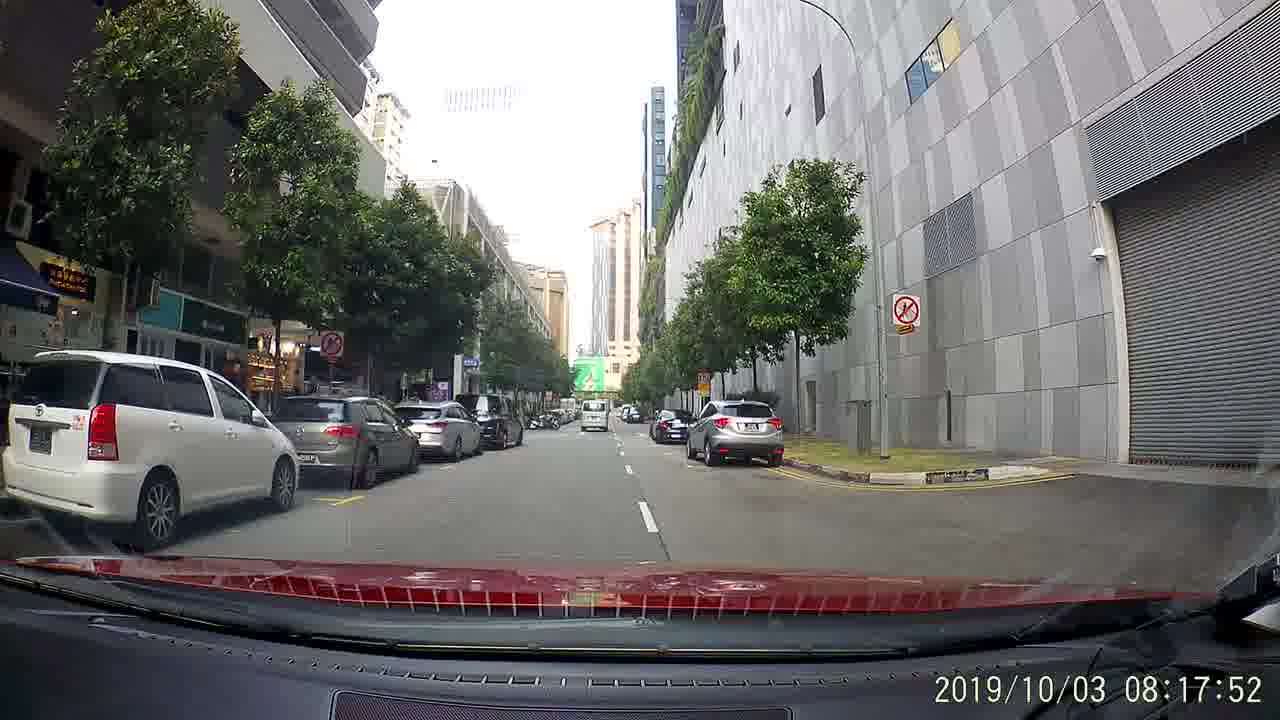car: (3, 348, 300, 550), (266, 389, 424, 490), (679, 395, 783, 471), (387, 399, 481, 463), (453, 390, 524, 449), (644, 408, 698, 447)
